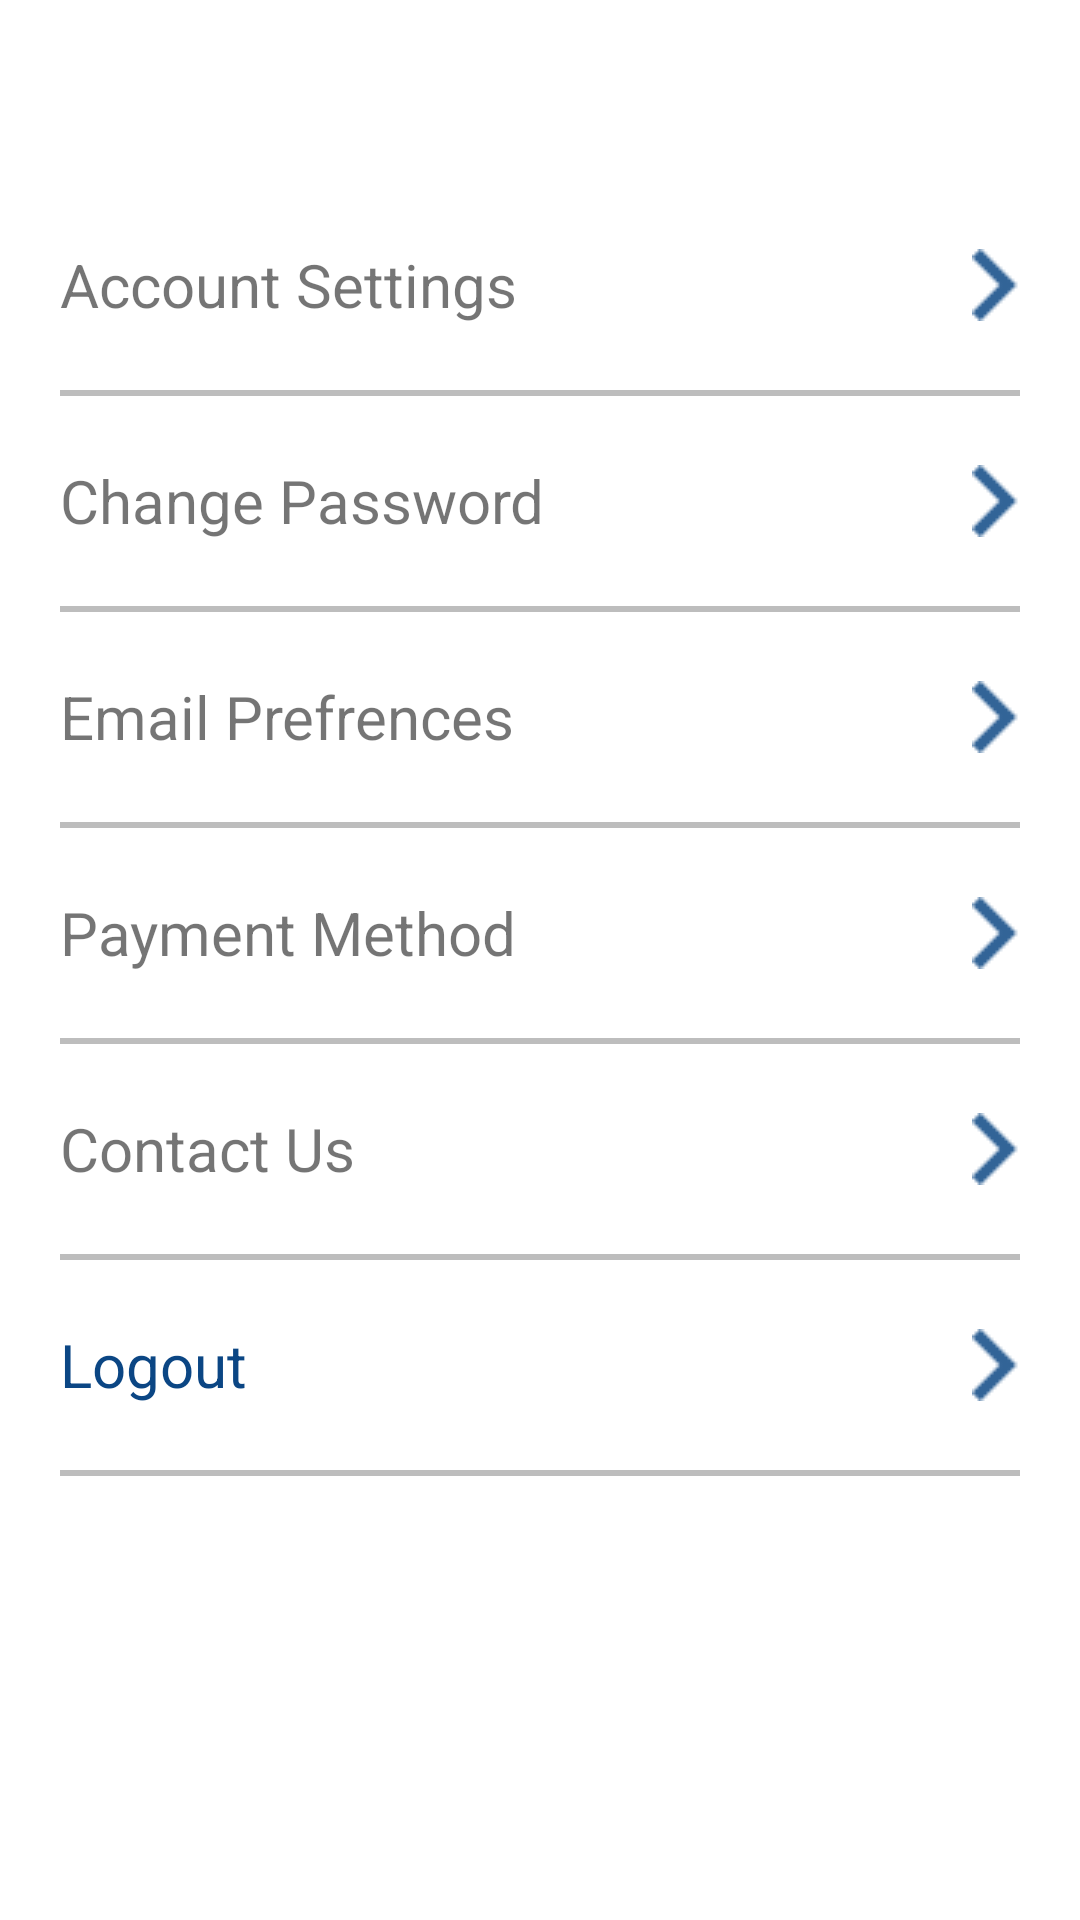

Point at icon controls on the screen. Image size 1080×1920, points as [x,y].
arrow: [994,285], [994,501], [994,717], [994,933], [994,1149], [994,1365]
